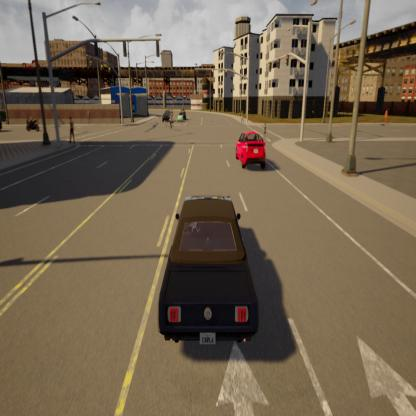Cars: (152, 188, 266, 348), (229, 116, 270, 186), (21, 108, 40, 140), (178, 101, 189, 128), (163, 106, 174, 126)
Pedestrian: (68, 104, 78, 149), (383, 95, 391, 128), (260, 112, 268, 139), (237, 103, 246, 127), (84, 106, 92, 130), (167, 113, 176, 133)
